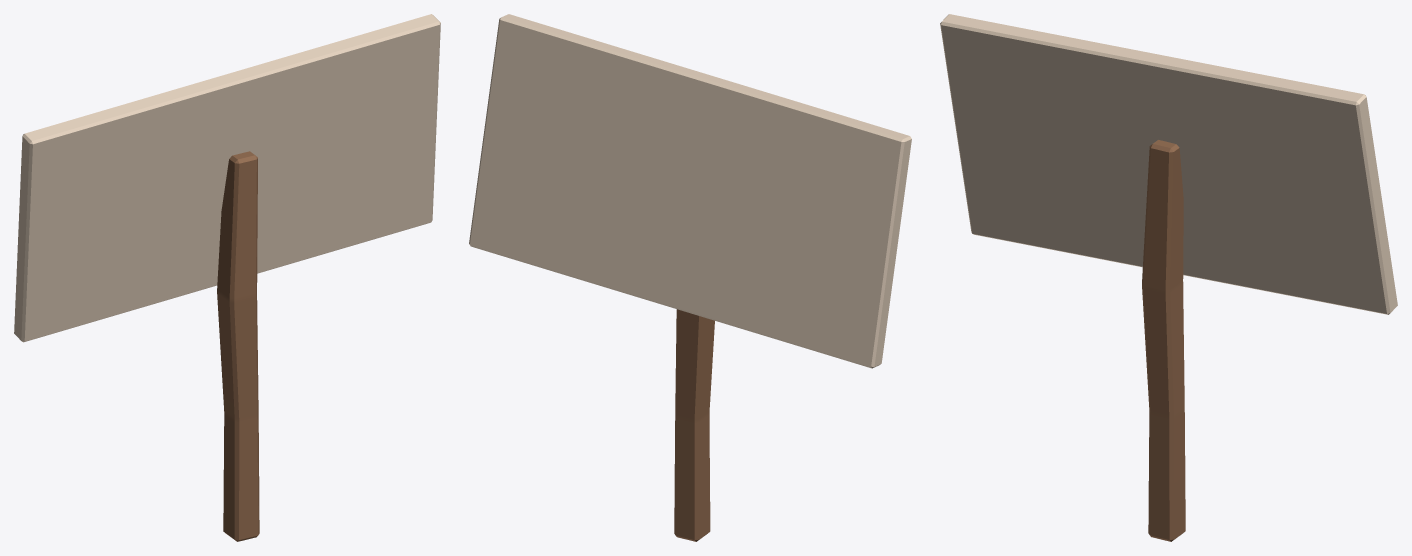
The model's file is sign_ground.fbx.
3 views of the same model, side by side, from view 1: azimuth 30°, elevation 25°; view 2: azimuth 150°, elevation 25°; view 3: azimuth 330°, elevation 25° (orthographic). The views are drawn at different scales.
Parts seen in each view (by area): view 1: sign_ground, sign_round_post; view 2: sign_ground, sign_round_post; view 3: sign_ground, sign_round_post.
Boxes of the visible parts, x1,y1,x2,y2 form: sign_ground: (14,14,440,342); sign_round_post: (217,151,259,541); sign_ground: (469,14,911,368); sign_round_post: (674,309,714,541); sign_ground: (940,14,1397,314); sign_round_post: (1142,140,1185,541).
Bounding box in the file's own units: 2.48 × 2.67 × 0.3203.
